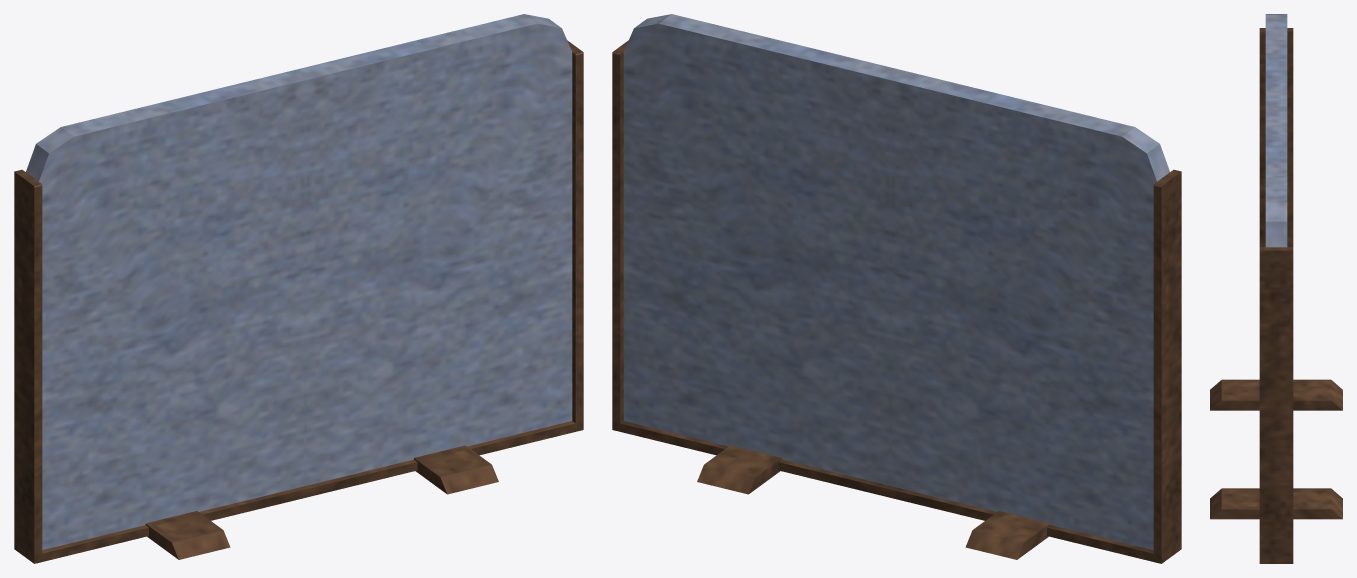
Rendered from divider_wood_blue_low_half.obj.
The picture shows the model from 3 angles, left to right: view 1: azimuth 30°, elevation 25°; view 2: azimuth 150°, elevation 25°; view 3: azimuth 270°, elevation 25°; orthographic projection. The views are drawn at different scales.
Parts seen in each view (by area): view 1: divider_wood_blue_low_half; view 2: divider_wood_blue_low_half; view 3: divider_wood_blue_low_half.
Boxes of the visible parts, x1,y1,x2,y2 form: divider_wood_blue_low_half: (14, 14, 583, 563); divider_wood_blue_low_half: (612, 14, 1181, 563); divider_wood_blue_low_half: (1210, 14, 1342, 563).
Size of the model in its own units: 2.07 by 1.5 by 0.523.
